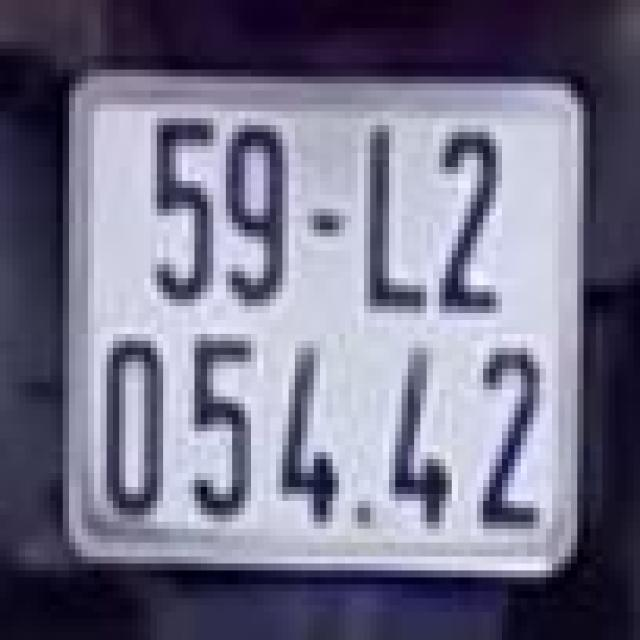0: (94, 324, 170, 532)
2: (433, 108, 508, 323), (477, 337, 546, 546)
4: (273, 338, 354, 532), (376, 327, 433, 522)
5: (182, 324, 263, 539), (144, 115, 220, 316)
9: (220, 122, 288, 310)
L: (342, 104, 423, 327)
